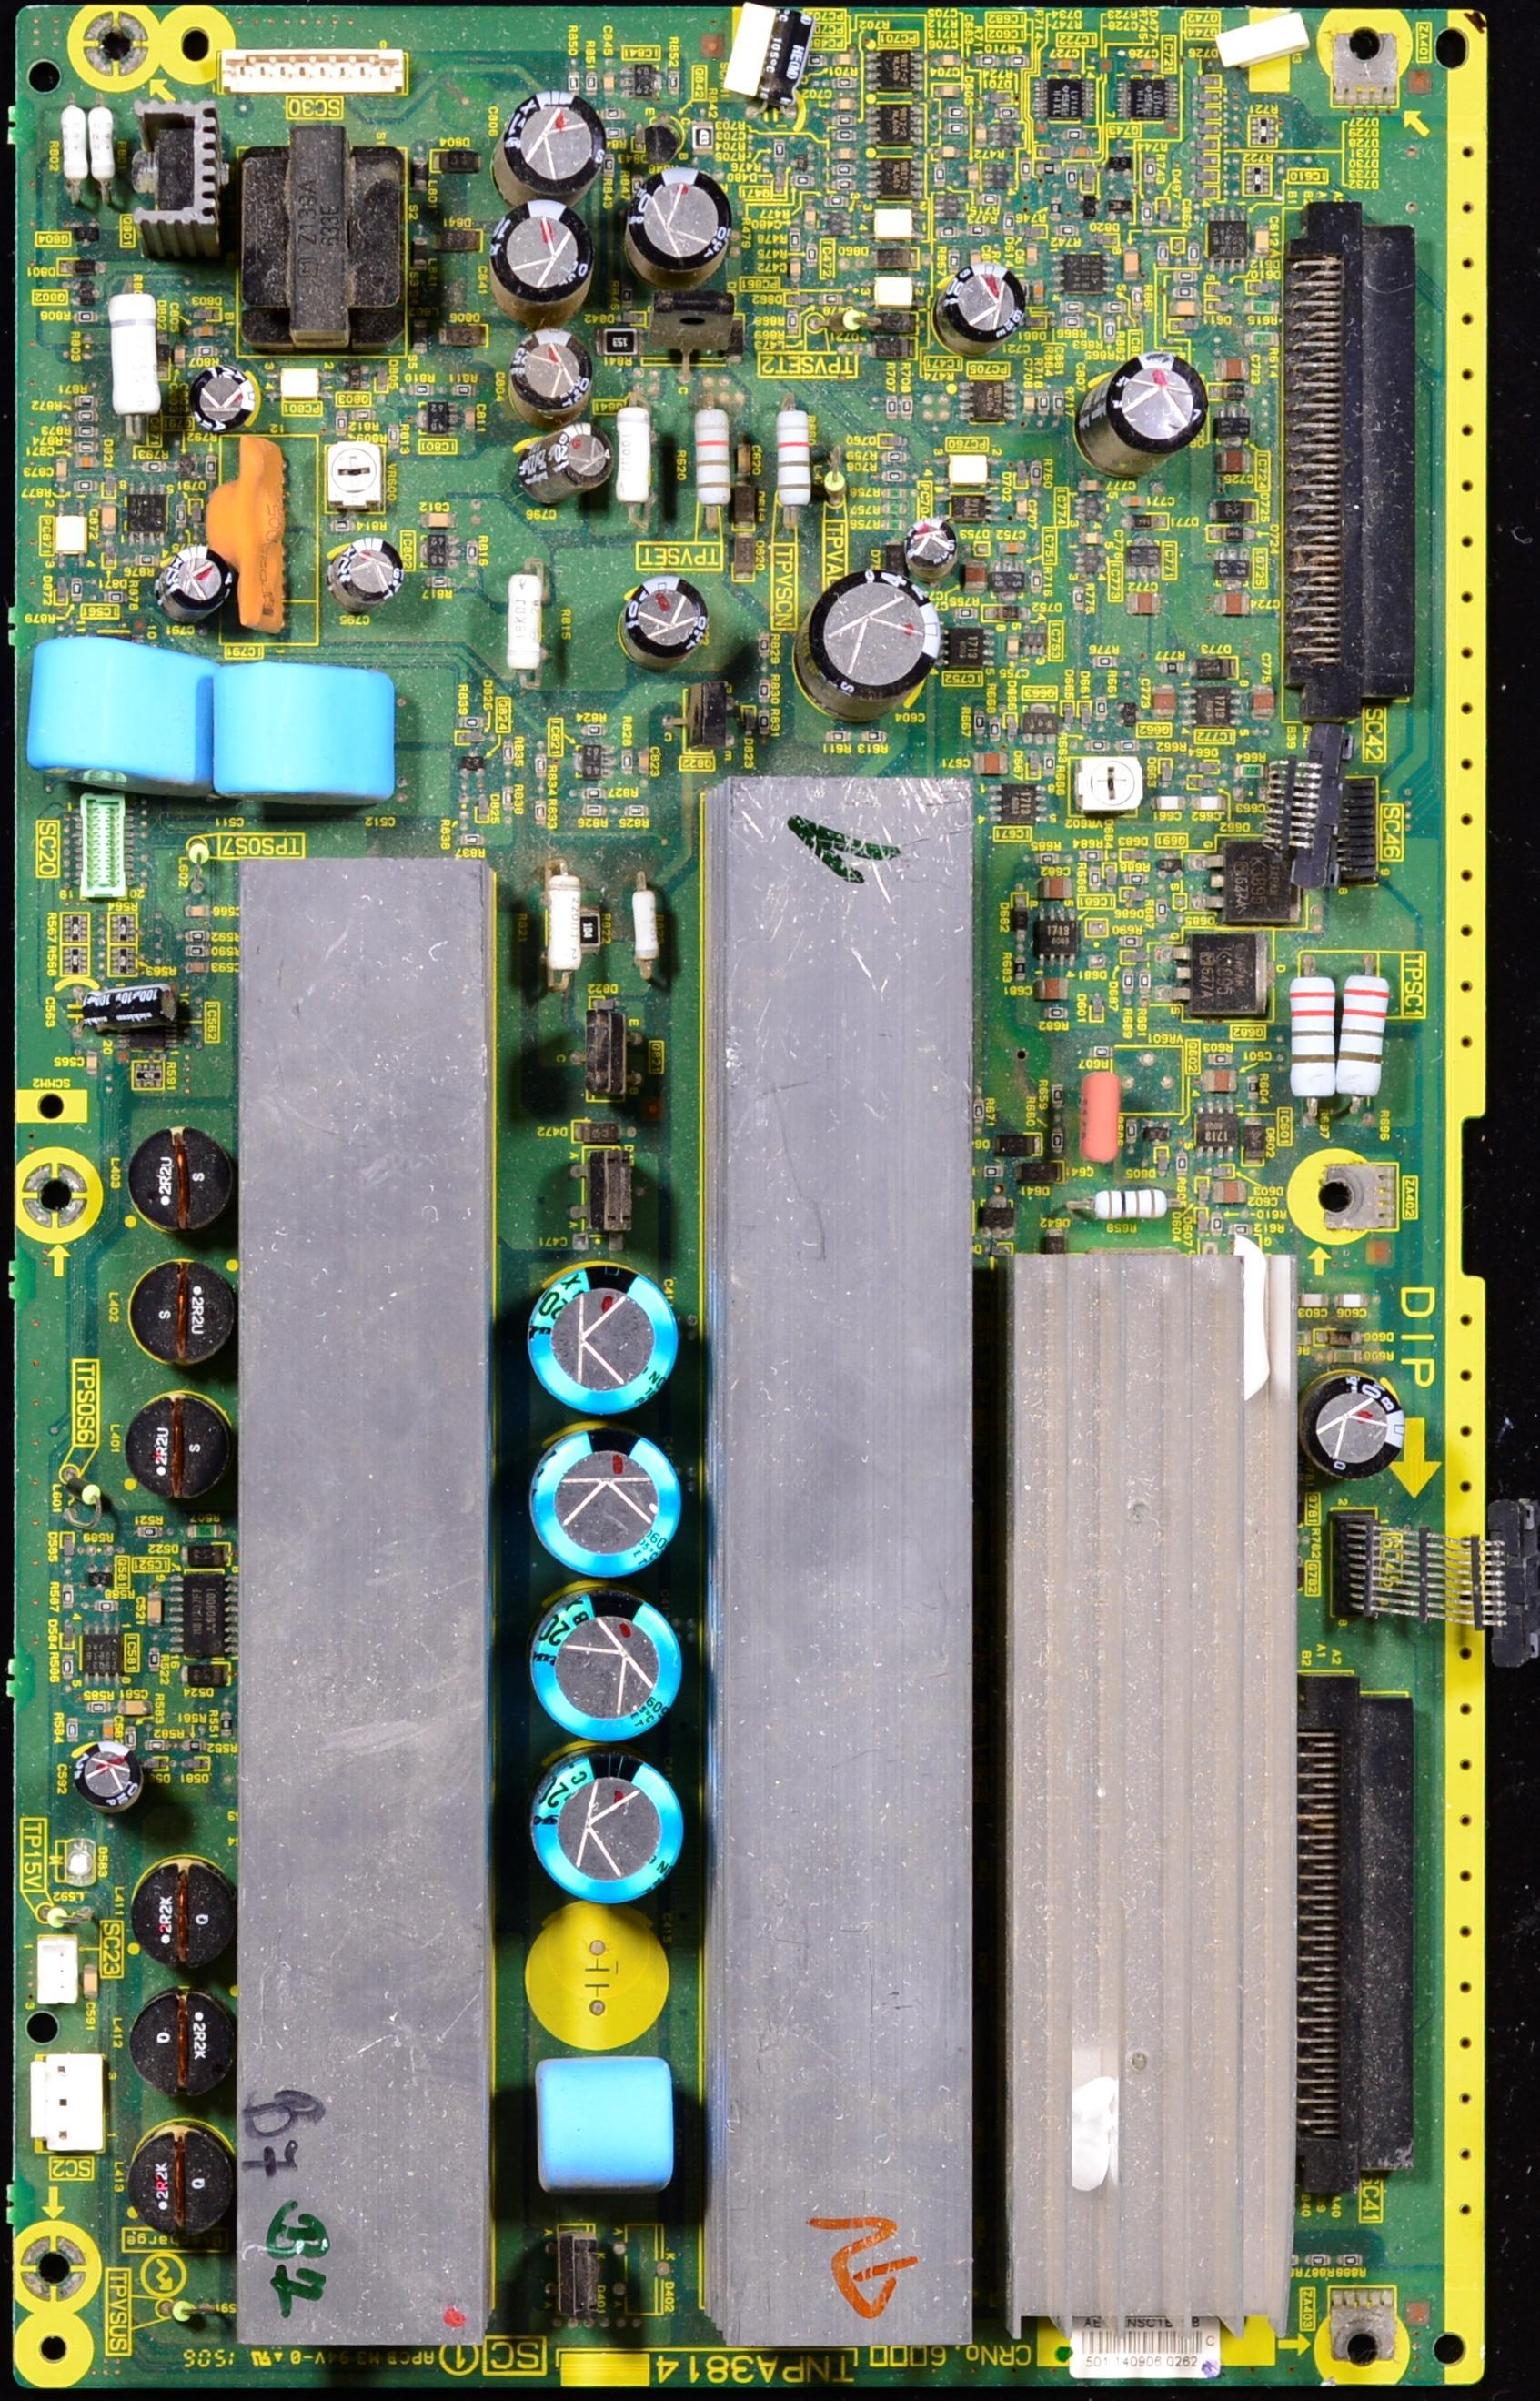Capacitor: (1151, 683, 1179, 725), (1214, 355, 1253, 385), (1251, 683, 1279, 723), (1216, 590, 1253, 619), (1335, 1291, 1372, 1319), (1125, 590, 1164, 616), (975, 751, 1010, 779), (1200, 1071, 1239, 1096), (1169, 297, 1204, 324), (1216, 451, 1251, 476), (1193, 795, 1229, 819), (1038, 977, 1078, 998), (1209, 1181, 1249, 1202), (1122, 245, 1141, 285), (1300, 1291, 1333, 1314), (1041, 879, 1073, 901), (100, 502, 121, 535), (1256, 224, 1274, 262), (1078, 479, 1108, 500), (1157, 796, 1186, 817), (121, 1701, 150, 1720), (145, 1594, 163, 1624), (75, 453, 103, 471), (187, 905, 214, 921), (182, 963, 214, 975), (1003, 543, 1027, 558), (1022, 390, 1036, 416), (1078, 532, 1104, 546), (56, 458, 70, 483), (86, 1972, 96, 1997), (1018, 497, 1029, 522), (605, 77, 616, 98), (791, 262, 801, 280), (936, 56, 955, 65), (640, 752, 649, 772), (970, 173, 980, 189), (1129, 497, 1144, 508), (1029, 245, 1036, 266), (976, 128, 985, 143), (807, 214, 817, 226), (833, 100, 856, 105), (942, 89, 954, 98), (1141, 61, 1153, 70), (945, 149, 959, 156), (107, 1724, 112, 1741), (838, 56, 850, 63), (837, 152, 852, 157), (1055, 61, 1067, 67), (975, 252, 982, 261), (1074, 151, 1090, 154)
Connector: (1295, 1666, 1410, 2189), (1292, 219, 1419, 688)
IC: (170, 1573, 243, 1661), (77, 1624, 135, 1685), (1204, 206, 1253, 277), (1048, 252, 1115, 303), (952, 380, 1017, 431), (1032, 75, 1099, 124), (983, 782, 1052, 830), (864, 103, 926, 156), (864, 157, 927, 208), (1036, 908, 1083, 973), (1111, 81, 1183, 121), (938, 626, 999, 672), (861, 51, 924, 94), (1192, 1103, 1237, 1162), (1185, 690, 1244, 731), (943, 492, 1005, 530), (411, 403, 464, 445), (574, 740, 619, 786), (621, 63, 668, 107), (1211, 404, 1253, 450), (420, 532, 462, 578), (990, 560, 1031, 607), (1127, 543, 1167, 584), (1073, 492, 1111, 530), (1213, 551, 1249, 588), (1074, 546, 1109, 584), (1018, 619, 1050, 661)
Resistor: (107, 292, 168, 431), (1288, 973, 1340, 1097), (1342, 973, 1390, 1096), (544, 871, 593, 978), (775, 404, 821, 516), (502, 574, 549, 677), (693, 404, 731, 516), (614, 406, 651, 511), (628, 887, 668, 978), (1083, 1192, 1178, 1227), (89, 110, 119, 196), (59, 108, 89, 191), (107, 913, 140, 947), (59, 910, 91, 945), (58, 945, 91, 975), (107, 943, 136, 975), (420, 511, 453, 532), (462, 408, 483, 436), (73, 422, 101, 441), (73, 394, 101, 410), (73, 411, 103, 425), (73, 438, 103, 451), (186, 947, 212, 959), (186, 929, 210, 942), (502, 744, 514, 766), (584, 723, 605, 733), (194, 1526, 214, 1537), (1249, 301, 1272, 310), (1144, 208, 1157, 224), (569, 79, 581, 94), (1053, 1136, 1064, 1153), (952, 112, 971, 121), (1337, 1353, 1356, 1361), (990, 723, 999, 742), (1006, 217, 1017, 233), (901, 403, 912, 418), (1050, 1088, 1059, 1106), (142, 1528, 159, 1537), (66, 1591, 75, 1608), (100, 1603, 117, 1612), (415, 387, 432, 395), (1143, 165, 1155, 177), (63, 1657, 70, 1678), (975, 1106, 983, 1122), (607, 112, 623, 121), (87, 1704, 103, 1713), (455, 385, 471, 394), (390, 431, 399, 446), (1164, 667, 1179, 675), (763, 716, 772, 731), (70, 1722, 77, 1741), (886, 492, 905, 499), (626, 752, 633, 772), (674, 77, 681, 96), (1052, 205, 1062, 217), (887, 509, 912, 514), (1125, 975, 1134, 989), (1207, 1055, 1225, 1062), (835, 133, 852, 140), (1022, 166, 1031, 180), (1190, 245, 1199, 259), (1158, 247, 1167, 261), (1106, 324, 1115, 338), (891, 473, 905, 481), (765, 637, 772, 654), (1097, 656, 1111, 665), (537, 805, 544, 822), (1038, 857, 1055, 865), (143, 464, 166, 469), (1158, 905, 1166, 921), (1209, 1216, 1216, 1232), (938, 170, 945, 185), (80, 317, 96, 324), (889, 401, 896, 416), (357, 413, 373, 420), (77, 485, 93, 492), (180, 511, 187, 527), (761, 681, 768, 696), (588, 77, 595, 93), (1092, 873, 1099, 889), (948, 254, 957, 266), (1099, 700, 1108, 712), (1094, 1050, 1108, 1057), (224, 1719, 231, 1733), (1069, 171, 1076, 185), (1060, 228, 1074, 234), (586, 809, 600, 816), (1064, 133, 1081, 138), (1053, 397, 1062, 408), (829, 735, 847, 740), (588, 793, 605, 798), (507, 793, 513, 810), (1005, 110, 1017, 117), (1237, 1225, 1249, 1232), (774, 145, 780, 157), (840, 166, 852, 173), (945, 231, 957, 238), (808, 252, 815, 264), (1041, 397, 1048, 410), (208, 460, 215, 473), (1139, 973, 1144, 989), (889, 455, 905, 460), (77, 583, 82, 599), (978, 718, 983, 733), (626, 809, 642, 814), (611, 135, 621, 142), (150, 1654, 156, 1668), (1045, 166, 1055, 173), (126, 1731, 131, 1745), (189, 1745, 203, 1750), (796, 179, 807, 185), (982, 196, 996, 201), (976, 226, 987, 233), (1064, 306, 1078, 312), (887, 520, 901, 525), (336, 523, 350, 528), (114, 595, 124, 602), (1013, 60, 1027, 65), (866, 733, 880, 739), (1081, 854, 1095, 859), (791, 315, 796, 327), (1066, 320, 1078, 325), (1256, 334, 1269, 340), (142, 560, 154, 565), (829, 196, 847, 200), (1181, 287, 1199, 290), (1125, 940, 1136, 945), (152, 1745, 163, 1750), (794, 236, 800, 247), (1178, 277, 1193, 280), (826, 297, 837, 303), (340, 418, 345, 429), (1094, 744, 1104, 749), (980, 60, 994, 63), (1179, 1162, 1185, 1171), (467, 721, 476, 726), (1130, 877, 1139, 882), (607, 161, 611, 173), (838, 182, 850, 185), (838, 121, 849, 124), (1120, 744, 1129, 747), (1108, 306, 1123, 308), (954, 129, 961, 131)
Transistor: (1347, 1514, 1489, 1629), (1171, 931, 1272, 1024), (1207, 835, 1305, 927), (975, 1195, 1018, 1241), (987, 558, 1029, 604), (1141, 1116, 1181, 1155), (1020, 705, 1060, 744), (464, 756, 488, 779), (826, 214, 849, 233), (79, 287, 98, 301), (72, 231, 101, 240), (796, 154, 812, 168), (91, 1573, 109, 1585)
